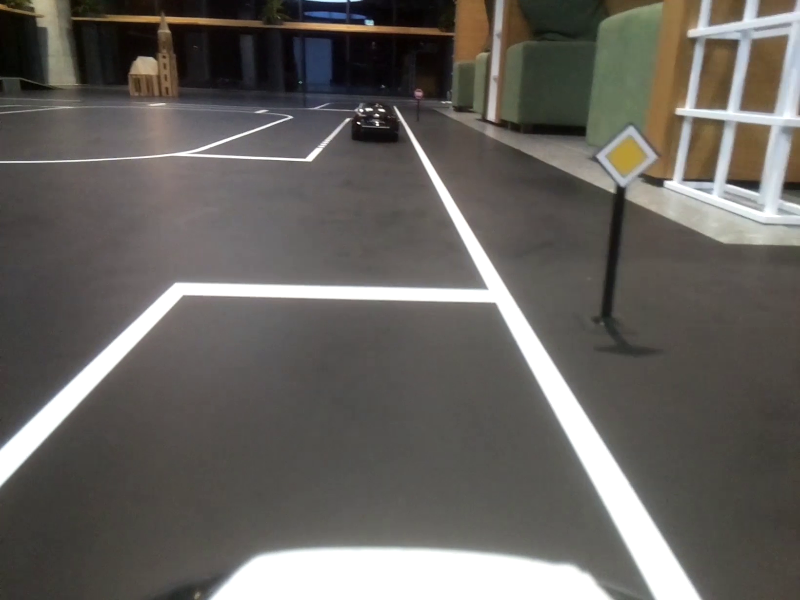priority: (591, 121, 661, 196)
